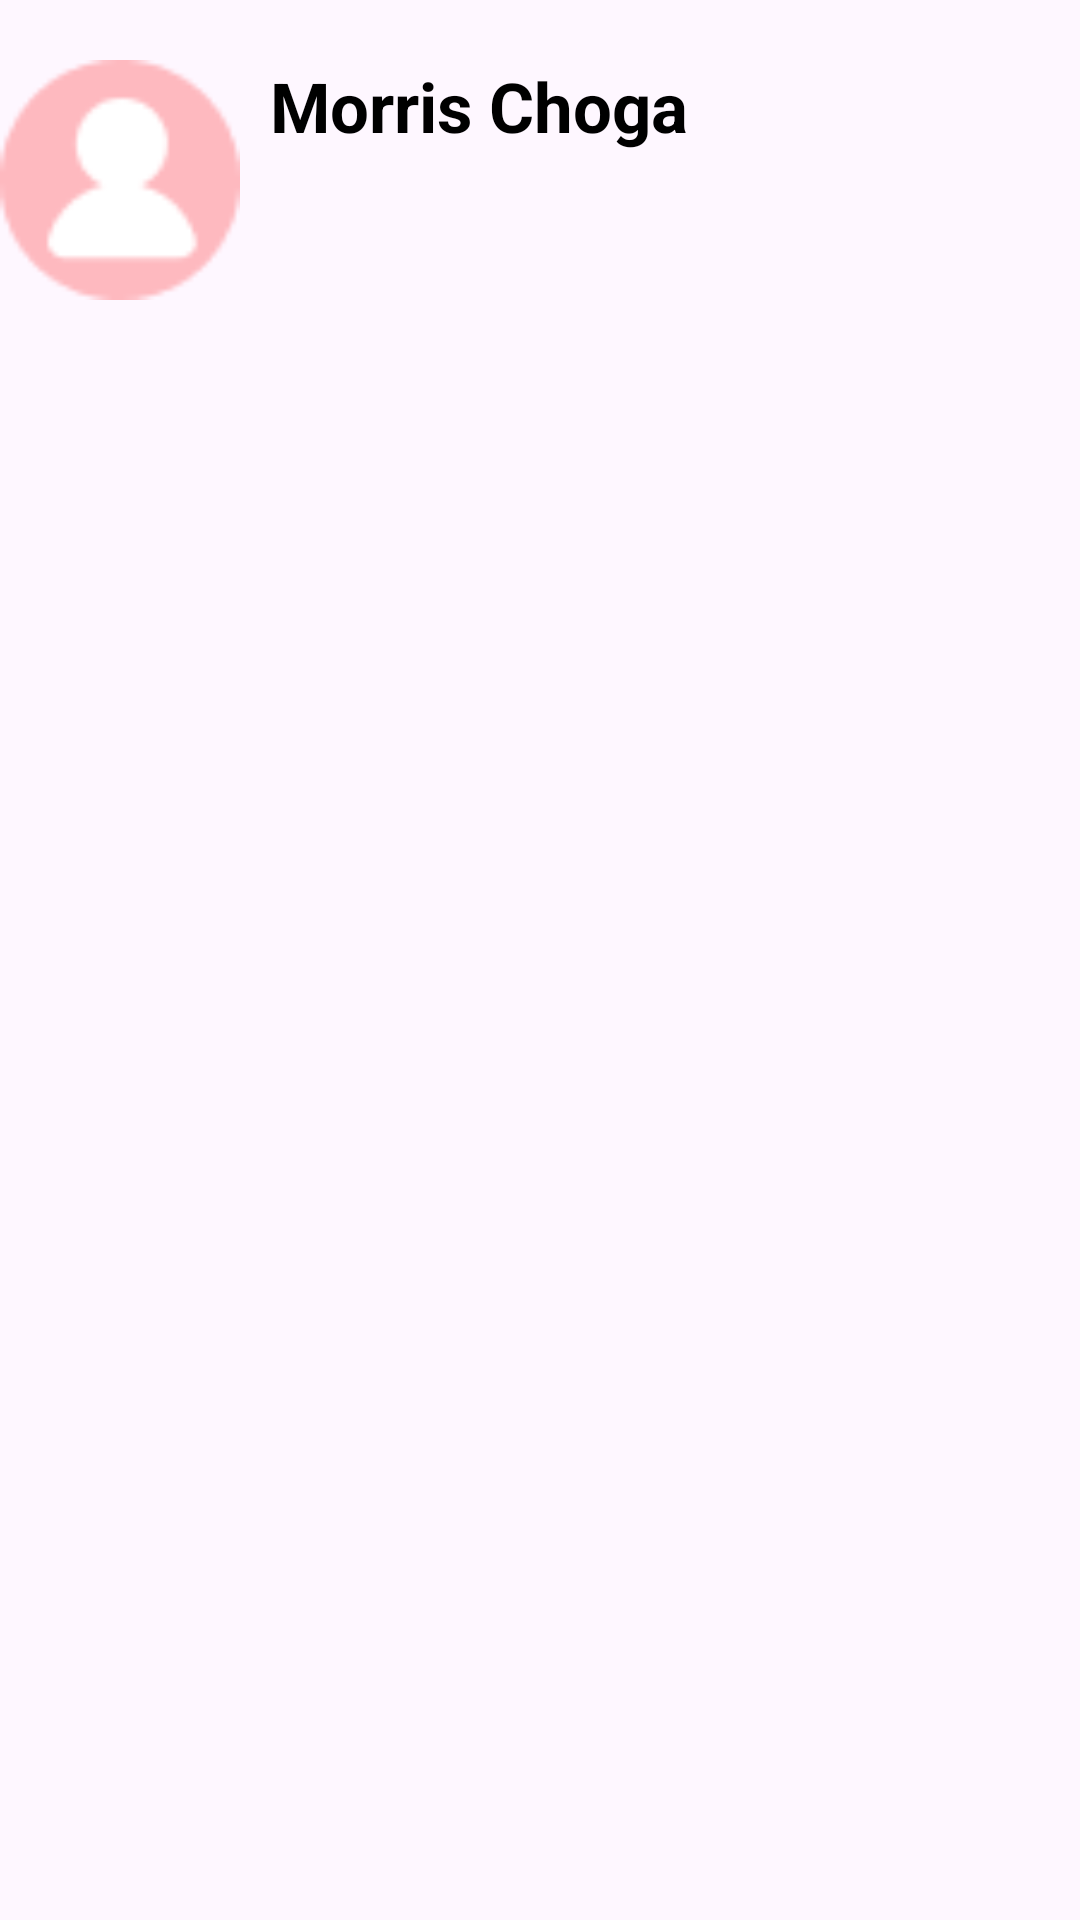

Icons on this 1080×1920 Android screen, each with the point to tap as point (x, y):
contacticon: point (120, 180)
